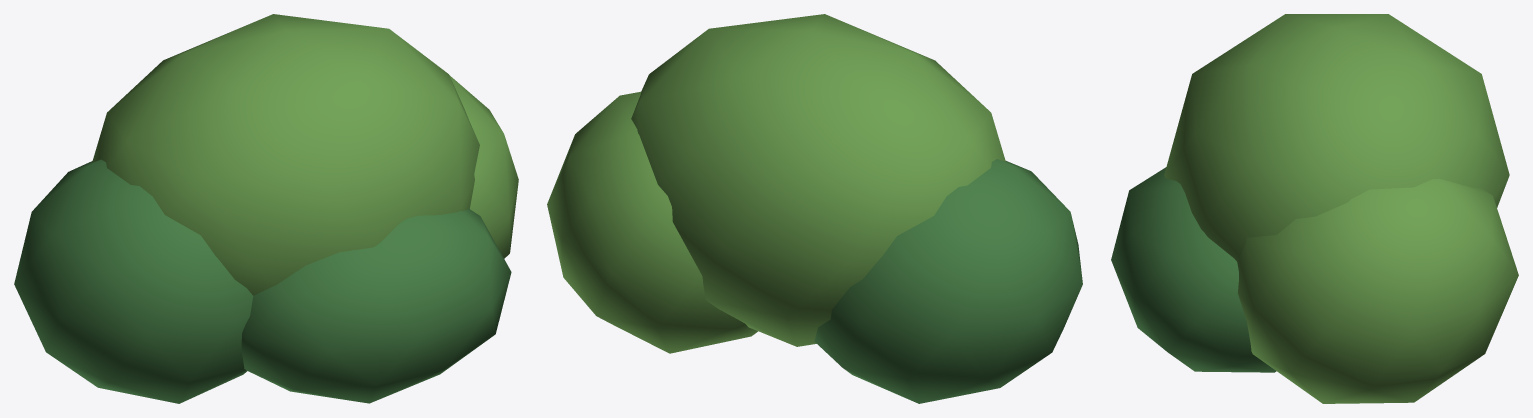
File: shrub_clump_medium_01.glb
The picture shows the model from 3 angles, left to right: view 1: azimuth 30°, elevation 25°; view 2: azimuth 150°, elevation 25°; view 3: azimuth 270°, elevation 25°; orthographic projection.
Visible parts, largest first — view 1: shrub_clump_medium_01; view 2: shrub_clump_medium_01; view 3: shrub_clump_medium_01.
Boxes of the visible parts, x1,y1,x2,y2 form: shrub_clump_medium_01: (14,14,518,403); shrub_clump_medium_01: (547,14,1082,403); shrub_clump_medium_01: (1111,14,1518,403).
Size of the model in its own units: 0.9009 by 0.594 by 0.6813.
